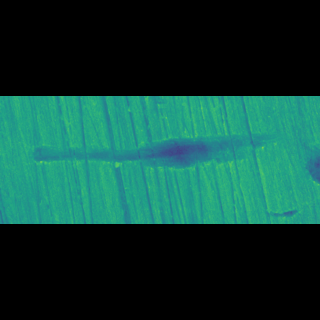Loch: (26, 146, 280, 164)
